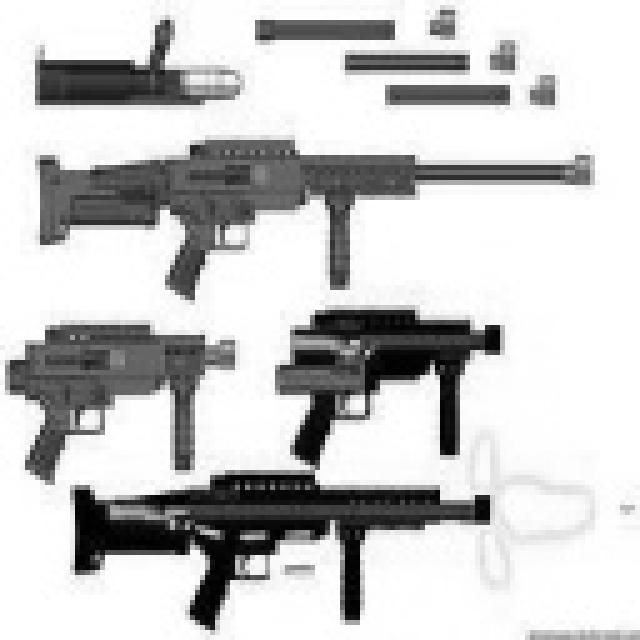Rifle: (2, 90, 618, 318), (39, 455, 519, 640), (221, 234, 533, 488), (0, 285, 260, 515)
